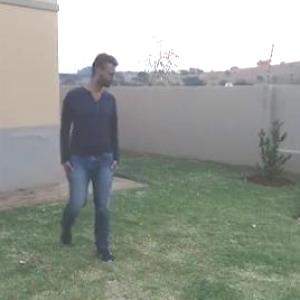follow: (57, 41, 137, 278)
